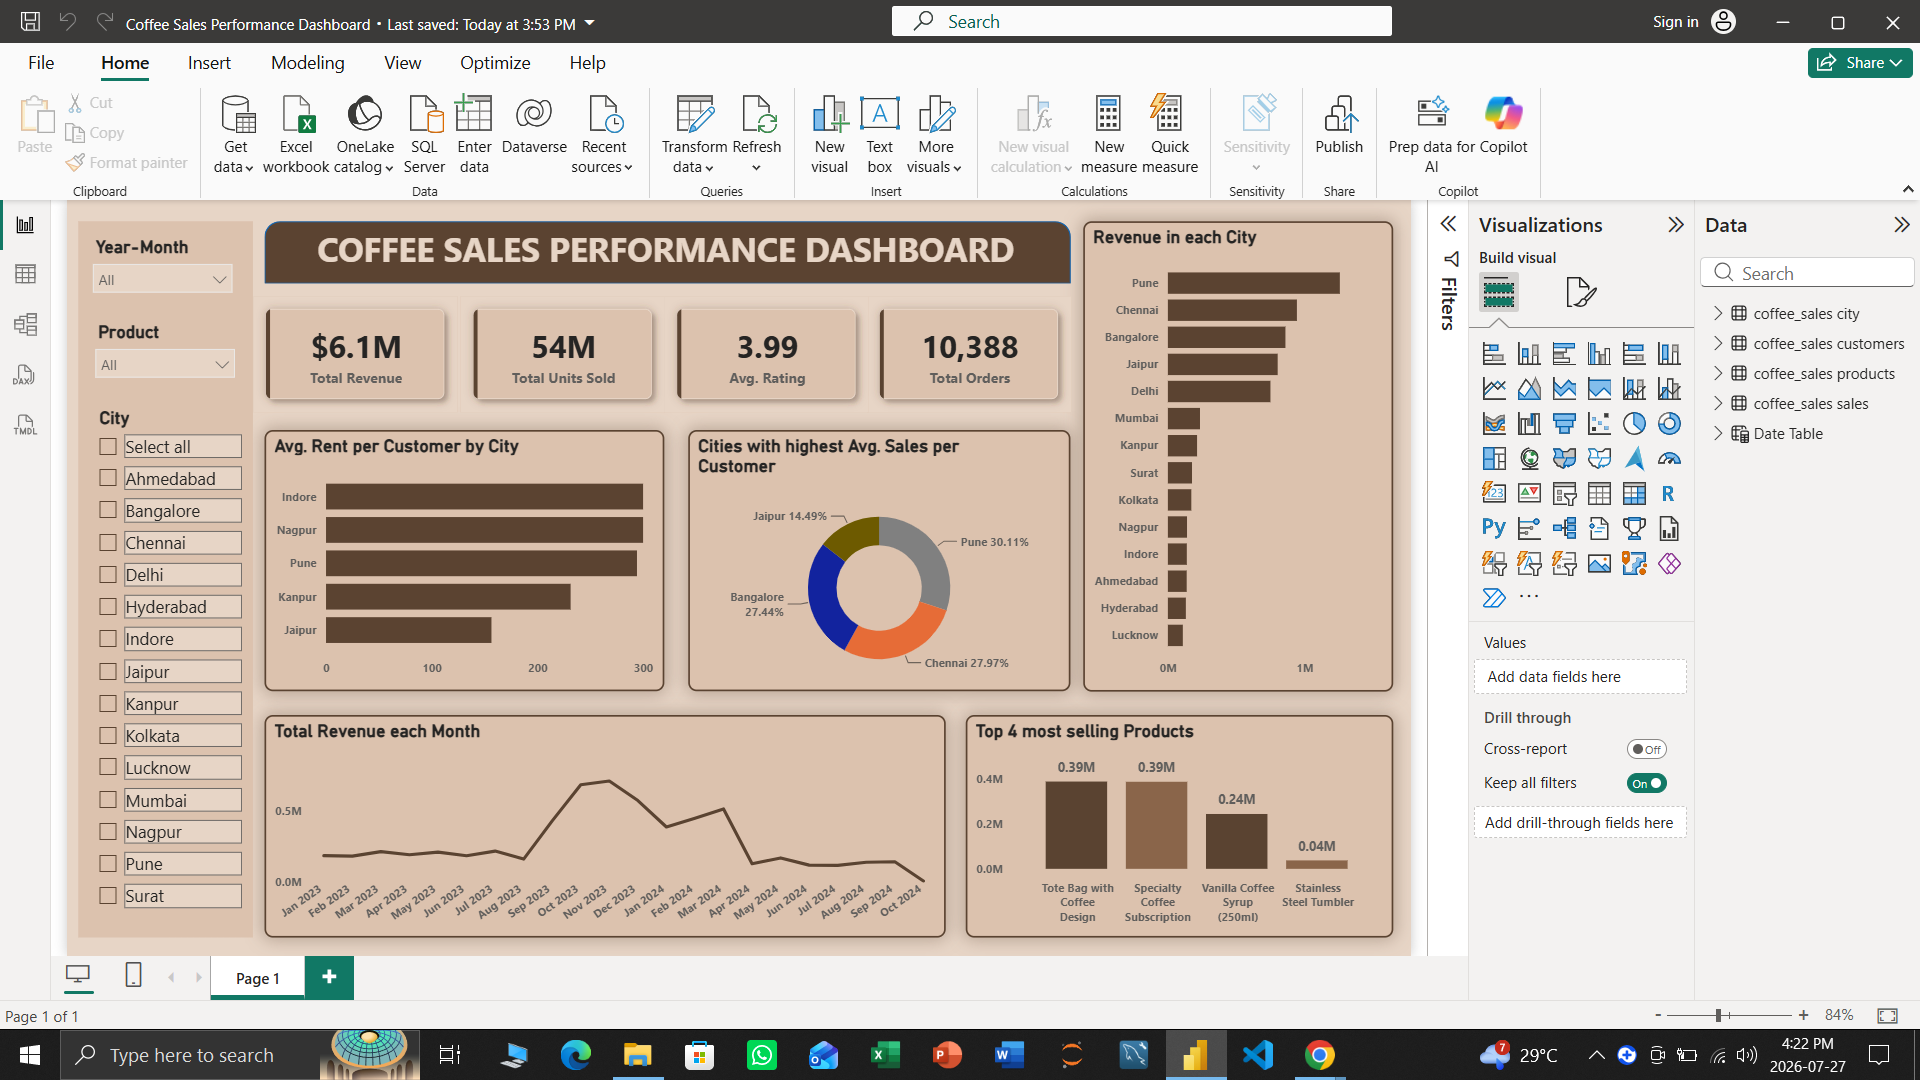

The dashboard page shown, as its layout file describes it:
{"tool":"powerbi","page":{"name":"Page 1","canvas":[1280,720],"ordinal":0},"visuals":[{"type":"donutChart","title":"Cities with highest Avg. Sales per Customer","fields":{"Category":["coffee_sales city.city_name"],"Y":["coffee_sales sales.Avg Sales per Customer"]},"box":[591.7,219,364.3,248.8],"z":0},{"type":"barChart","title":"Revenue in each City","fields":{"Category":["coffee_sales city.city_name"],"Y":["coffee_sales sales.Total Revenue"]},"box":[967.9,20.2,295.2,447.6],"z":1000},{"type":"barChart","title":"Avg. Rent per Customer by City","fields":{"Category":["coffee_sales city.city_name"],"Y":["coffee_sales city.Avg Rent per Customer"]},"box":[188.1,219,381,248.8],"z":2000},{"type":"columnChart","title":"Top 4 most selling Products","fields":{"Y":["coffee_sales sales.Total Revenue"],"Category":["coffee_sales products.product_name"]},"box":[856,490.5,407.1,211.9],"z":3000},{"type":"lineChart","title":"Total Revenue each Month","fields":{"Category":["Date Table.Year Month"],"Y":["coffee_sales sales.Total Revenue"]},"box":[188.1,490.5,648.8,211.9],"z":4000},{"type":"cardVisual","fields":{"Data":["CountNonNull(coffee_sales sales.customer_id)"]},"box":[761.9,91.7,194,110.7],"z":5000},{"type":"cardVisual","fields":{"Data":["coffee_sales sales.Total Revenue"]},"box":[177.4,91.7,194,110.7],"z":6000},{"type":"cardVisual","fields":{"Data":["coffee_sales sales.Avg Rating"]},"box":[569.1,91.7,194,110.7],"z":7000},{"type":"cardVisual","fields":{"Data":["Sum(coffee_sales sales.sale_id)"]},"box":[375,91.7,194,110.7],"z":8000},{"type":"shape","box":[10.7,20.2,166.7,682.1],"z":9000},{"type":"slicer","title":"Category","fields":{"Values":["coffee_sales city.city_name"]},"box":[17.9,192.9,153.6,517.9],"z":10000},{"type":"slicer","fields":{"Values":["Date Table.Year Month"]},"box":[14.3,29.8,153.6,72.6],"z":11000},{"type":"slicer","fields":{"Values":["coffee_sales products.product_name"]},"box":[16.7,110.7,153.6,73.8],"z":12000},{"type":"shape","box":[188.1,20.2,767.9,59.5],"z":13000},{"type":"textbox","box":[225,20.2,690.5,59.5],"z":14000}]}

Visuals, with their boxes on the page's 1280x720 design canvas (x1, y1, x2, y2). These are canvas units, not pixel positions in the 1920x1080 screenshot, which may show the page scaled, cropped or inside an application window:
"Cities with highest Avg. Sales per Customer" donutChart: <region>592, 219, 956, 468</region>
"Revenue in each City" barChart: <region>968, 20, 1263, 468</region>
"Avg. Rent per Customer by City" barChart: <region>188, 219, 569, 468</region>
"Top 4 most selling Products" columnChart: <region>856, 490, 1263, 702</region>
"Total Revenue each Month" lineChart: <region>188, 490, 837, 702</region>
cardVisual - CountNonNull(coffee_sales sales.customer_id): <region>762, 92, 956, 202</region>
cardVisual - coffee_sales sales.Total Revenue: <region>177, 92, 371, 202</region>
cardVisual - coffee_sales sales.Avg Rating: <region>569, 92, 763, 202</region>
cardVisual - Sum(coffee_sales sales.sale_id): <region>375, 92, 569, 202</region>
shape: <region>11, 20, 177, 702</region>
"Category" slicer: <region>18, 193, 172, 711</region>
slicer - Date Table.Year Month: <region>14, 30, 168, 102</region>
slicer - coffee_sales products.product_name: <region>17, 111, 170, 184</region>
shape: <region>188, 20, 956, 80</region>
textbox: <region>225, 20, 916, 80</region>
